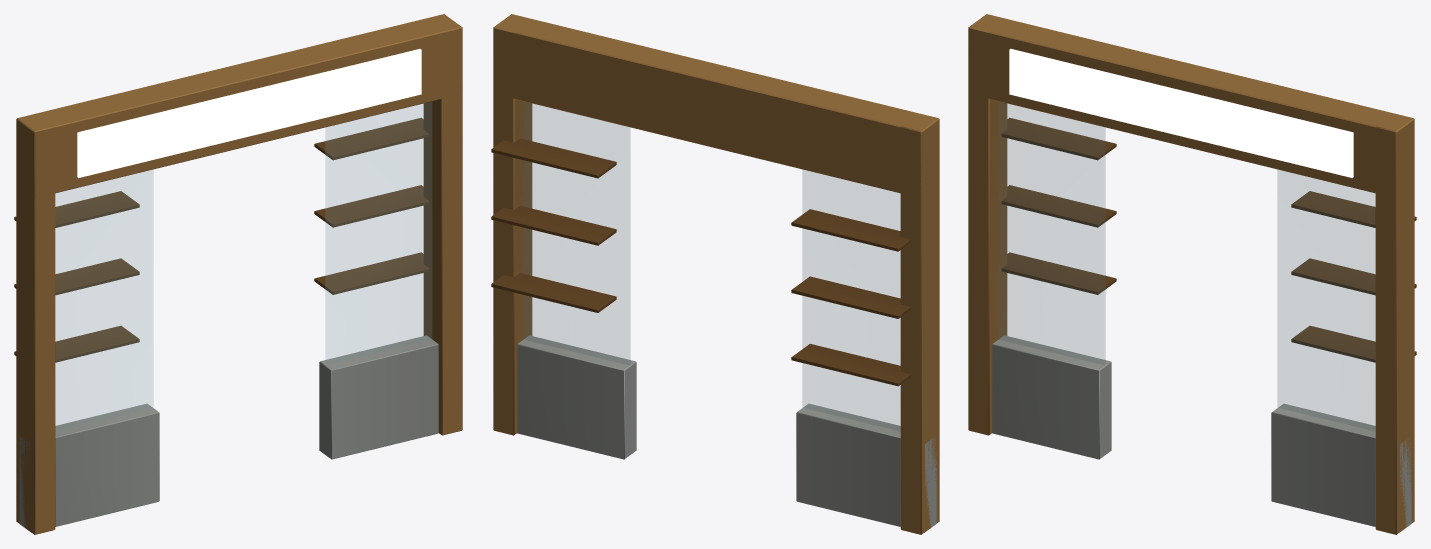
File: ap-shop-front.glb
3 views of the same model, side by side, from view 1: azimuth 30°, elevation 25°; view 2: azimuth 150°, elevation 25°; view 3: azimuth 330°, elevation 25° (orthographic).
Parts seen in each view (by area): view 1: portal__wood, glass__glass, wall__paint, sign__led; view 2: portal__wood, glass__glass, wall__paint; view 3: portal__wood, glass__glass, wall__paint, sign__led.
Boxes of the visible parts, bbox=[...] form: portal__wood: bbox=[14, 14, 462, 534]; glass__glass: bbox=[55, 102, 431, 430]; wall__paint: bbox=[19, 335, 438, 532]; sign__led: bbox=[77, 49, 421, 177]; portal__wood: bbox=[491, 14, 939, 534]; glass__glass: bbox=[524, 102, 900, 430]; wall__paint: bbox=[517, 335, 936, 532]; portal__wood: bbox=[968, 14, 1416, 534]; glass__glass: bbox=[999, 102, 1375, 430]; wall__paint: bbox=[992, 335, 1411, 532]; sign__led: bbox=[1009, 49, 1353, 177].
Size of the model in its own units: 4 by 3.6 by 0.52.
